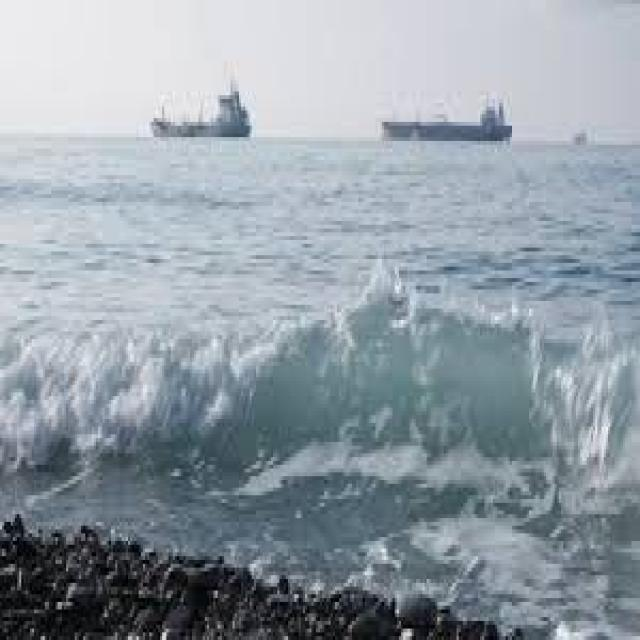cargoship: (369, 63, 518, 144), (143, 53, 255, 135)
